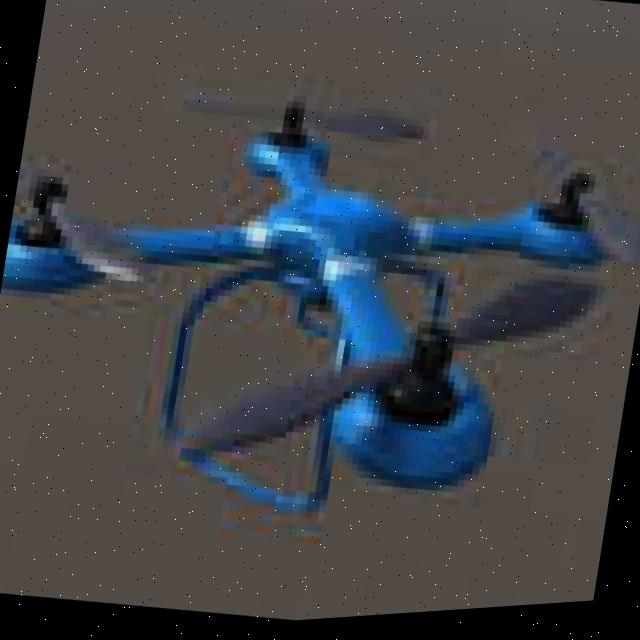drone: (0, 15, 640, 607)
